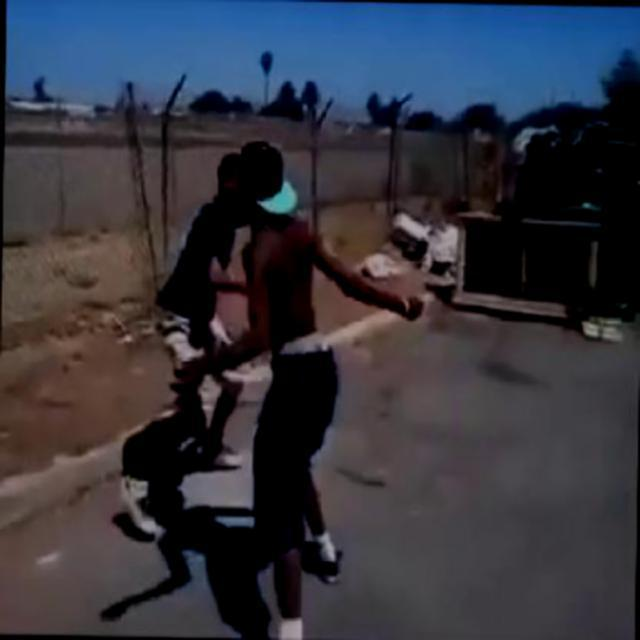fight: (148, 136, 430, 638)
